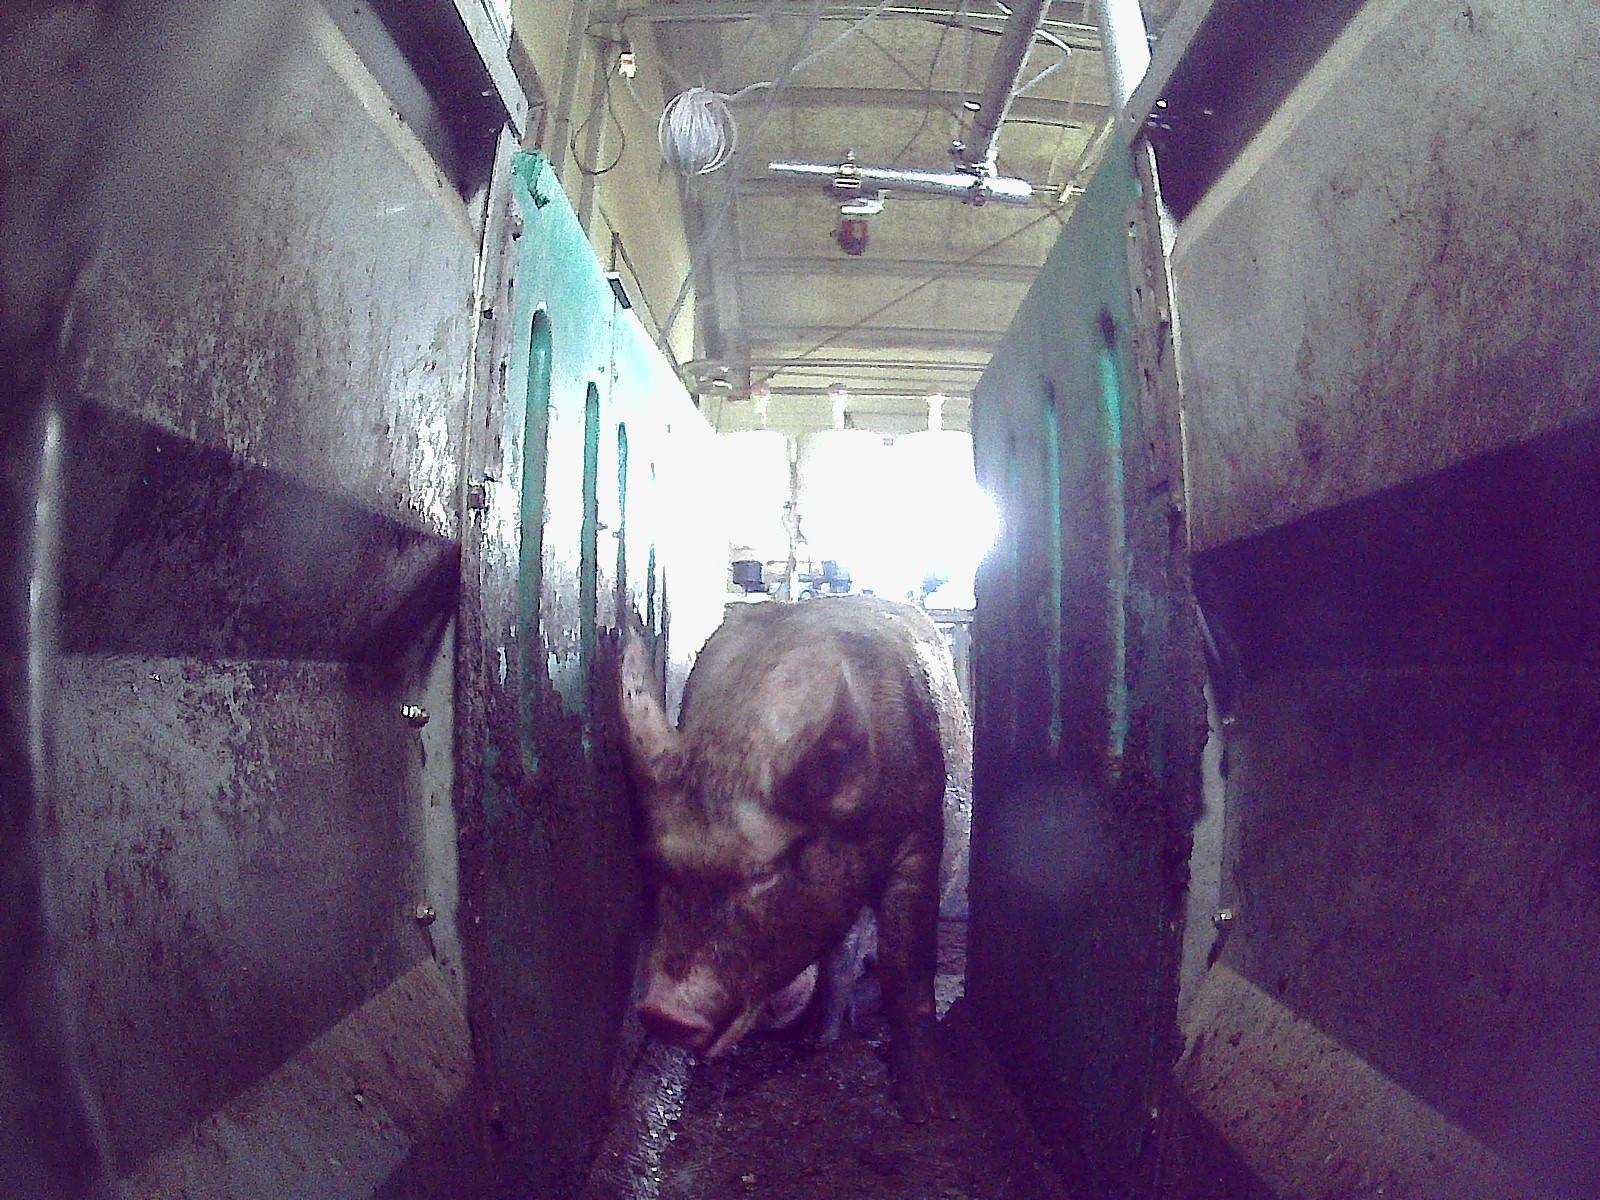Face: (634, 724, 855, 1059)
